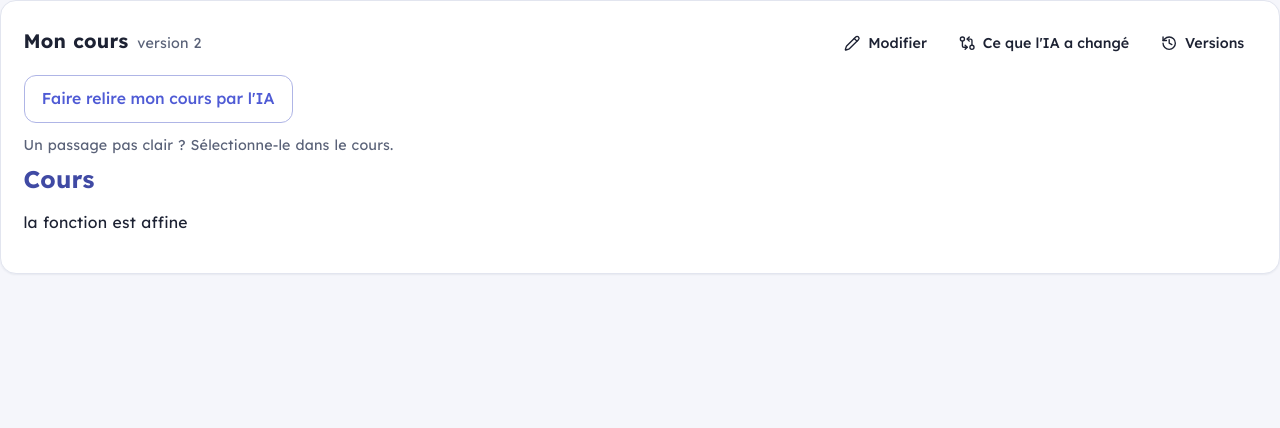
Scenario: CoursePanel › affiche les modifications par rapport aux notes
Click the button "Ce que l'IA a changé".
click(1044, 44)  # box [947, 24, 1141, 64]
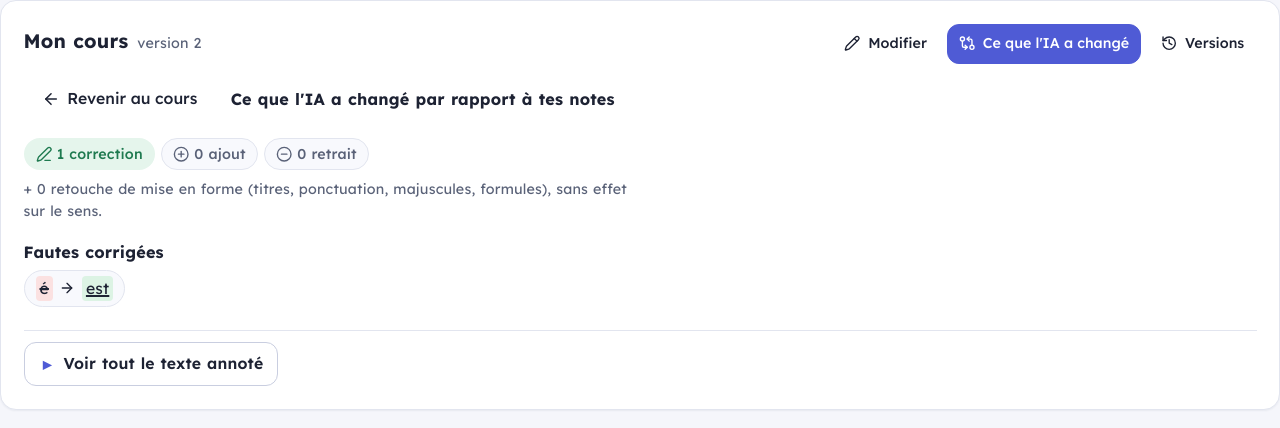
Expected: the text "est" is shown, [82, 276, 113, 301]
Expected: the text "é" is shown, [36, 276, 53, 301]
Expected: the element with class "change-counts" shows "1 correction", [57, 144, 143, 162]
